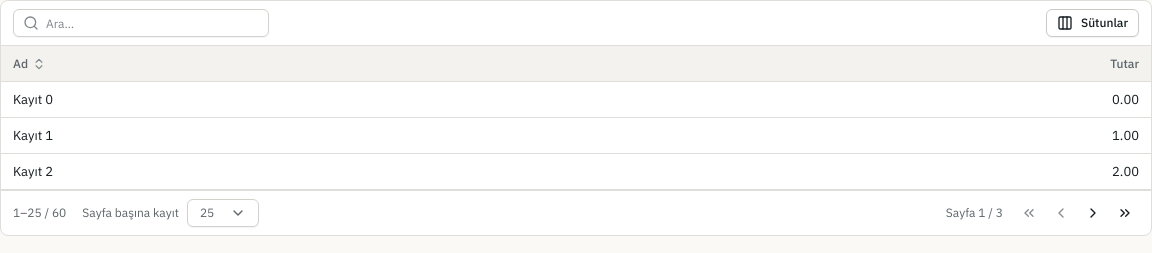
DataTable › pages with the footer controls
The width and height of the screenshot is (1152, 253).
Expected: the text "1–25 / 60" is shown, [13,205,66,221]
Expected: the button named "Önceki sayfa" is disabled, [1047,199,1075,227]
Click the button named "Sonraki sayfa" at (1093, 213), box [1079,199,1107,227]
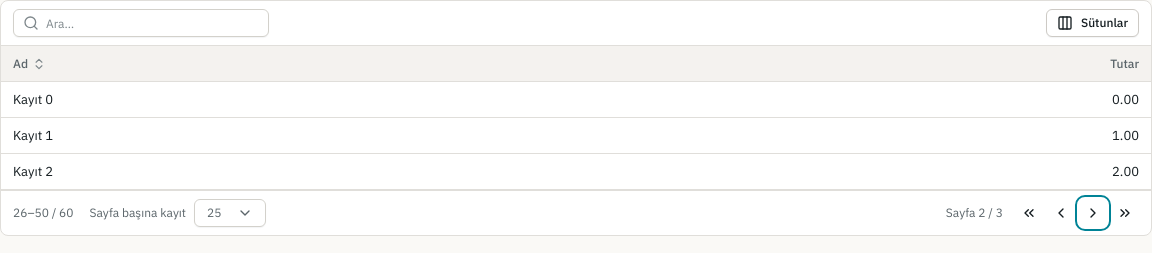
Click the button named "Son sayfa" at (1125, 213), box [1111,199,1139,227]
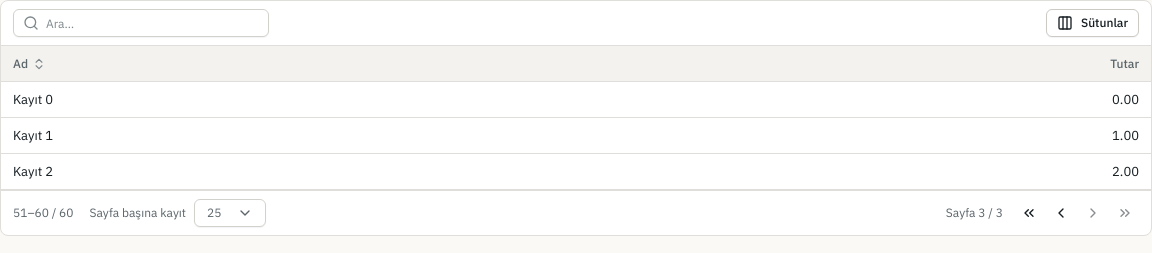
Now the text "51–60 / 60" is shown, box [13,205,74,221]
